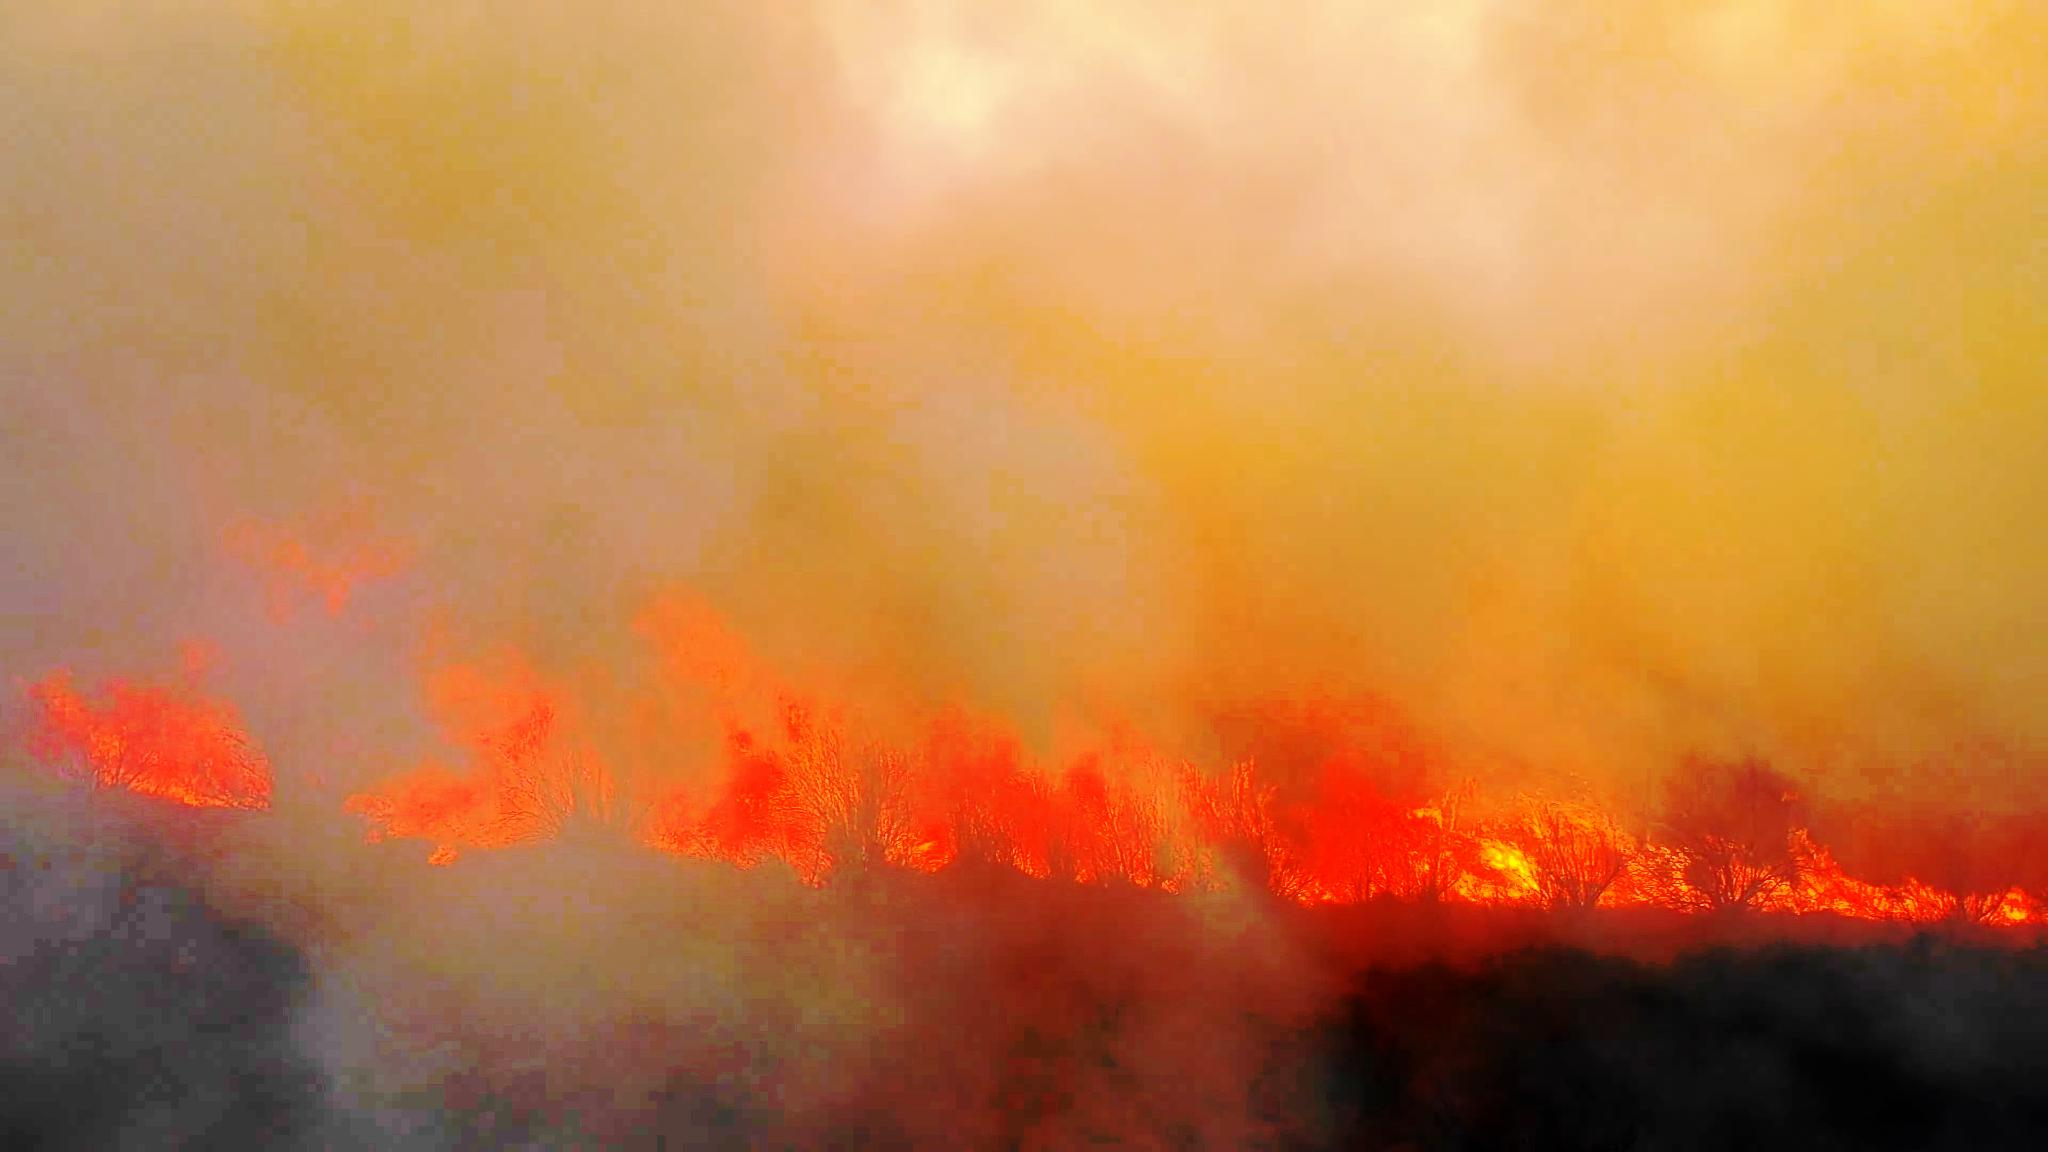fire: (1443, 736, 1573, 902)
smoke: (6, 0, 2048, 452), (1175, 7, 2048, 685), (492, 25, 1203, 675), (0, 0, 470, 423)
